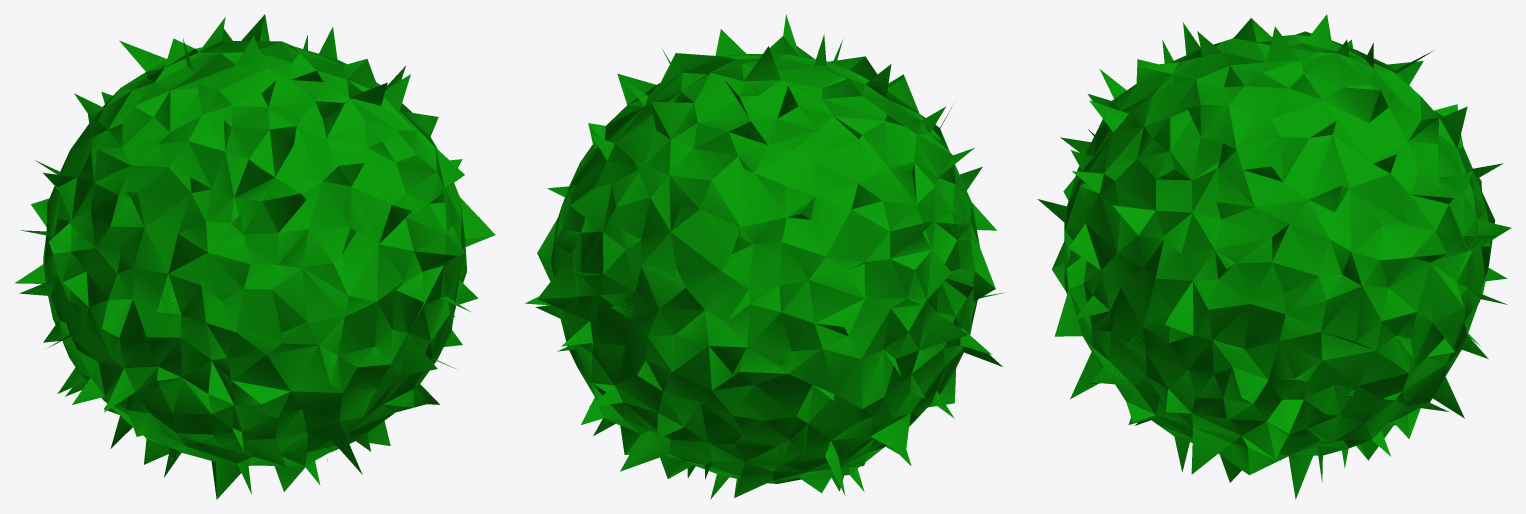
The model's file is protex2.glb.
3 renders of one model, left to right at view 1: azimuth 30°, elevation 25°; view 2: azimuth 150°, elevation 25°; view 3: azimuth 270°, elevation 25°, orthographic.
Parts seen in each view (by area): view 1: Object_006_Material #794_0; view 2: Object_006_Material #794_0; view 3: Object_006_Material #794_0.
Boxes of the visible parts, left/top/right/bottom form: Object_006_Material #794_0: left=15, top=14, right=495, bottom=499; Object_006_Material #794_0: left=525, top=14, right=1004, bottom=499; Object_006_Material #794_0: left=1037, top=14, right=1511, bottom=499.
Bounding box in the file's own units: 0.2266 × 0.2239 × 0.2177.
